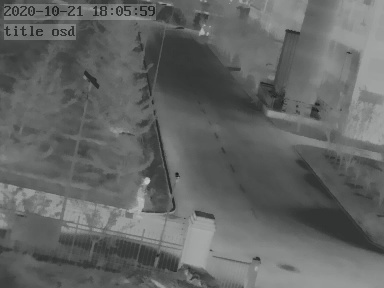person: (129, 176, 150, 218)
